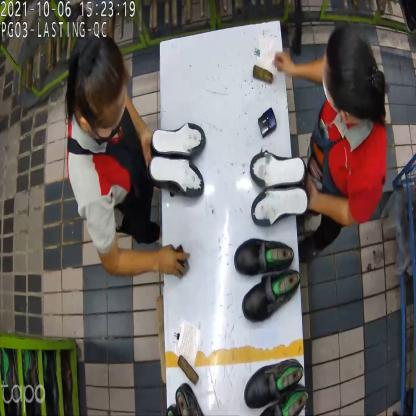shoes: (233, 234, 299, 323), (250, 149, 309, 229), (148, 118, 206, 198), (241, 354, 312, 416)
stamp: (172, 253, 190, 287), (259, 107, 277, 136)
